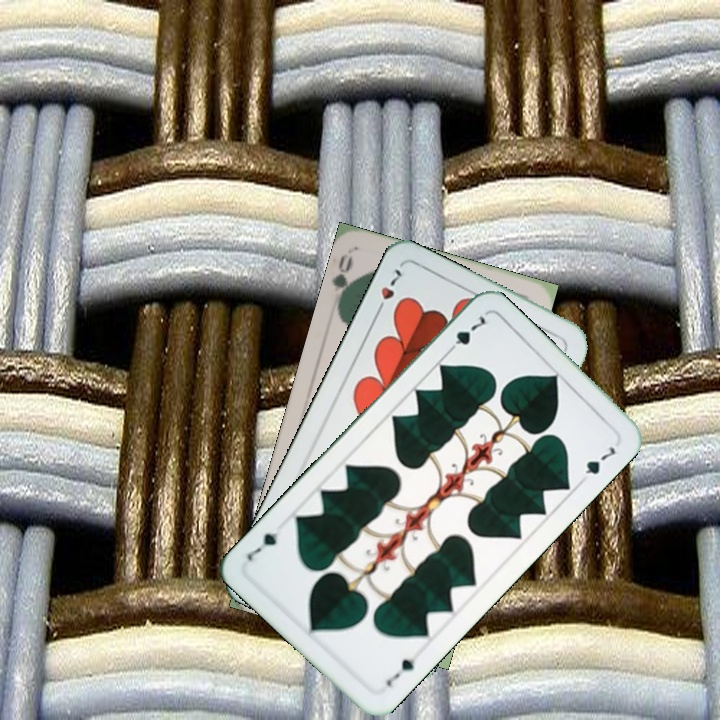G7: (442, 311, 489, 357), (382, 654, 417, 690)
GO: (329, 249, 359, 309)
H7: (371, 264, 404, 318)
